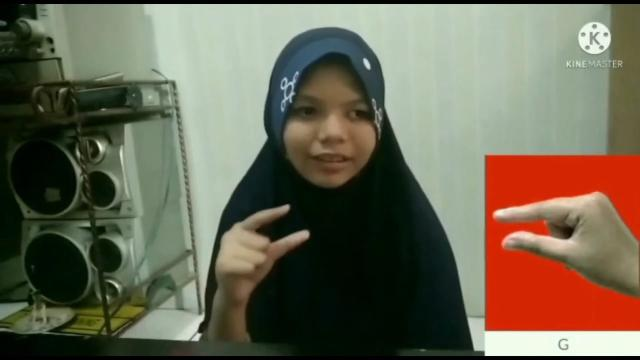G: (490, 190, 640, 295), (214, 202, 310, 296)
